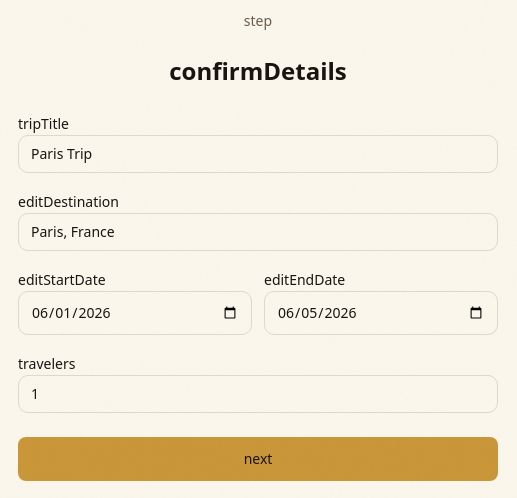
Test: PlanGeneratorWizard › disables Next button when destination or title is empty
Step 1. Clear the field labelled "tripTitle" → (258, 154), box [18,135,498,173]
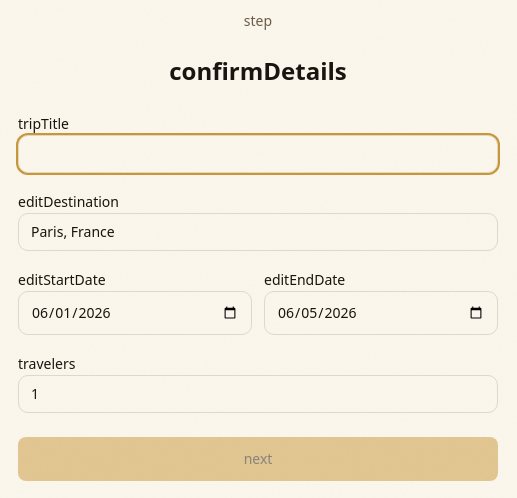
Expected: the button "next" is disabled, [18,437,498,481]
